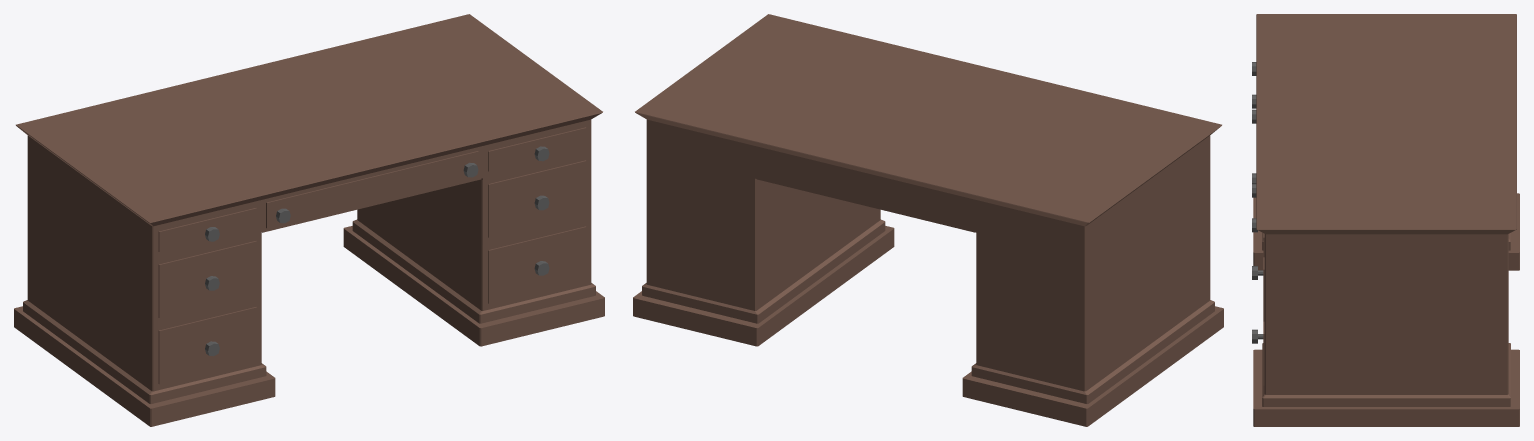
Rendered from desk_exec.glb.
The picture shows the model from 3 angles, left to right: view 1: azimuth 30°, elevation 25°; view 2: azimuth 150°, elevation 25°; view 3: azimuth 270°, elevation 25°; orthographic projection. The views are drawn at different scales.
Parts seen in each view (by area): view 1: ExecutiveDesk1, Drawer6_ExecutiveDesk1; view 2: ExecutiveDesk1; view 3: ExecutiveDesk1, Drawer6_ExecutiveDesk1.
Part boxes in pixels (box(x1,y1,x2,y2)): ExecutiveDesk1: box(14, 14, 604, 426); Drawer6_ExecutiveDesk1: box(205, 146, 586, 356); ExecutiveDesk1: box(633, 14, 1223, 426); ExecutiveDesk1: box(1253, 14, 1519, 426); Drawer6_ExecutiveDesk1: box(1252, 62, 1264, 343).
Bounding box in the file's own units: 2.05 × 0.8745 × 1.08.
